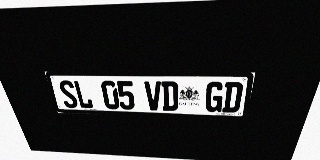0: (100, 81, 120, 109)
5: (116, 81, 135, 110)
D: (222, 82, 244, 113), (161, 81, 178, 111)
G: (205, 82, 225, 112)
L: (73, 80, 94, 109)
S: (57, 80, 79, 108)
V: (144, 81, 162, 111)
